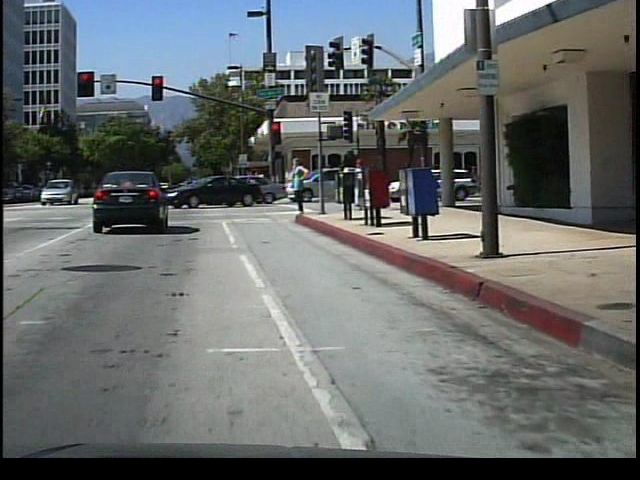person: (289, 152, 316, 218), (338, 154, 358, 211), (353, 154, 372, 211)
